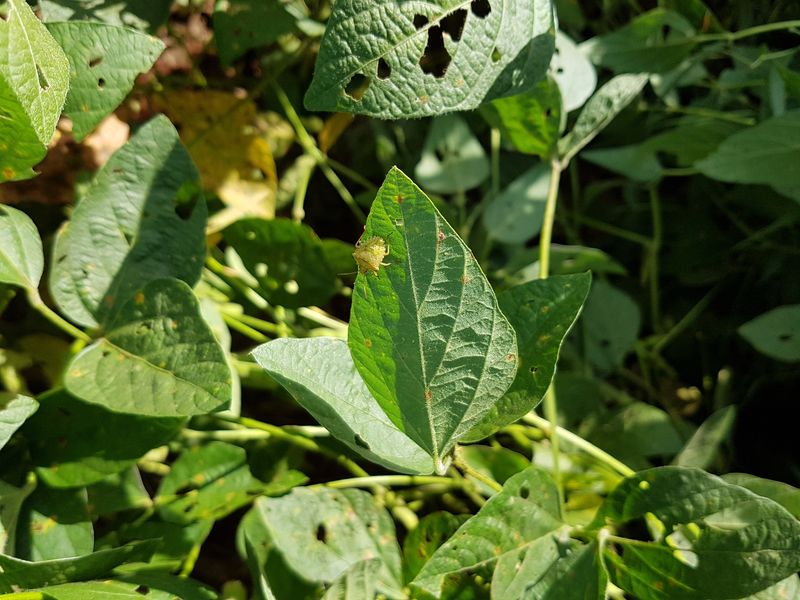Euschistus_heros_ninfa: (331, 226, 395, 286)
